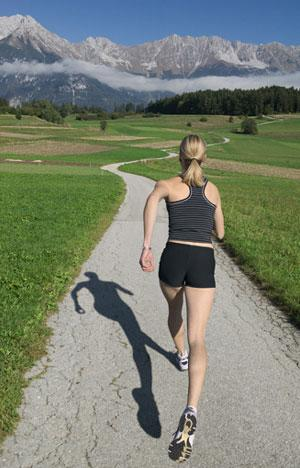person: (140, 133, 226, 464)
